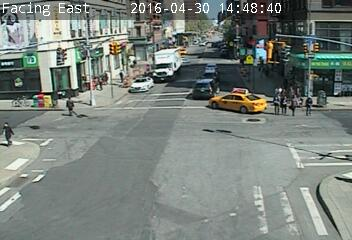neg: (164, 4, 184, 30), (289, 4, 306, 27), (322, 36, 339, 59), (221, 96, 238, 119), (110, 160, 126, 181), (39, 41, 53, 60), (186, 71, 200, 89), (27, 154, 41, 172), (241, 39, 255, 56), (70, 27, 83, 44), (136, 110, 148, 127), (24, 82, 36, 98), (24, 49, 35, 63), (201, 147, 210, 160), (85, 46, 94, 58), (251, 150, 260, 162), (154, 75, 163, 86), (61, 54, 69, 66), (90, 139, 98, 151), (238, 49, 246, 60), (300, 146, 308, 157), (206, 56, 214, 66), (101, 110, 109, 120), (4, 14, 12, 24), (114, 29, 121, 39), (164, 53, 170, 62), (194, 33, 200, 41), (158, 39, 164, 47), (170, 102, 176, 110), (227, 29, 232, 36), (157, 149, 162, 156)
pos: (84, 61, 109, 94), (57, 93, 80, 123), (296, 92, 316, 120), (283, 93, 301, 118), (267, 92, 285, 115), (275, 92, 292, 115), (292, 83, 305, 100), (115, 68, 126, 83), (288, 84, 296, 95), (129, 57, 137, 68), (273, 84, 281, 94)
